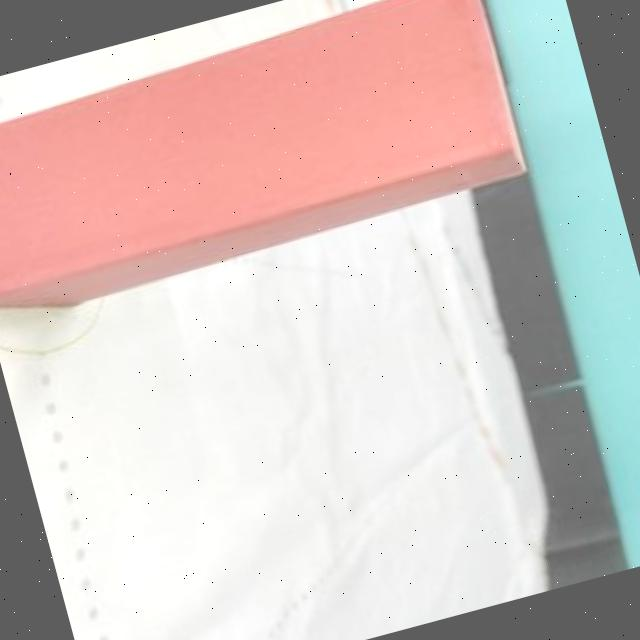redbox: (0, 0, 538, 329)
